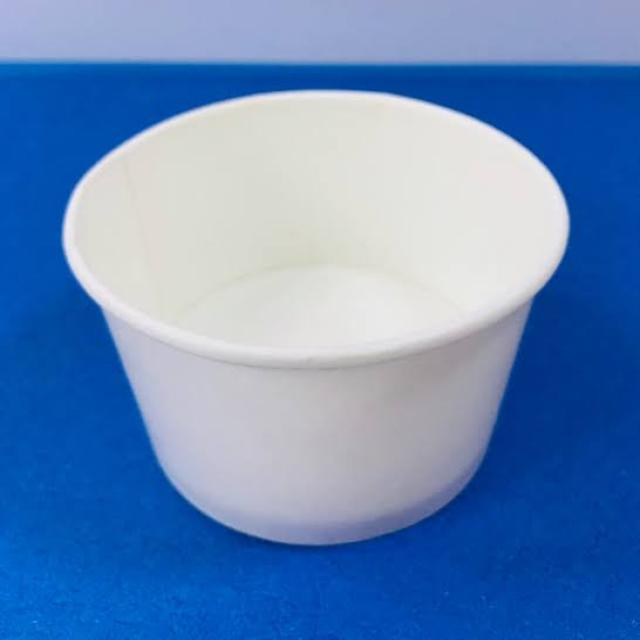paper cup: (47, 80, 568, 556)
